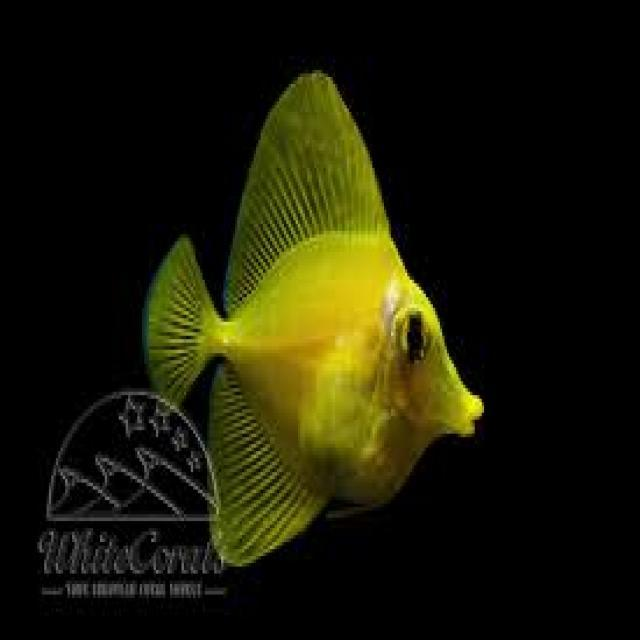YellowTang: (132, 66, 496, 565)
